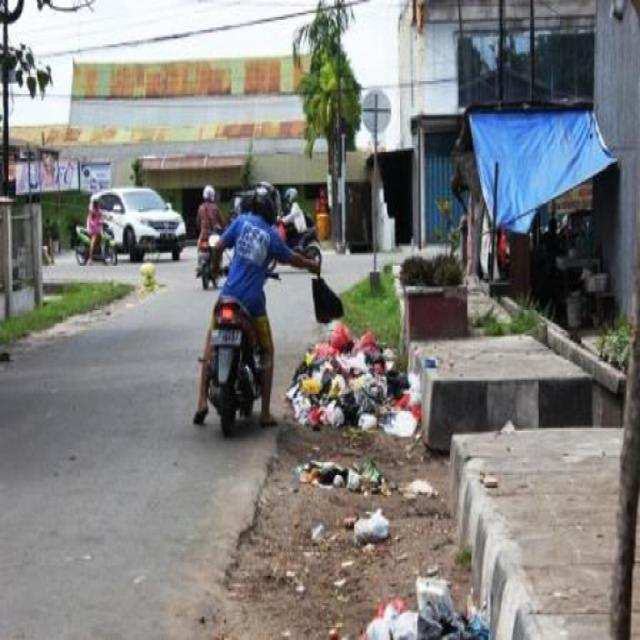sampah-detection: (285, 320, 422, 444), (355, 570, 490, 640), (290, 445, 386, 498), (310, 272, 348, 332), (347, 504, 395, 547), (399, 471, 442, 509), (302, 514, 330, 554)
